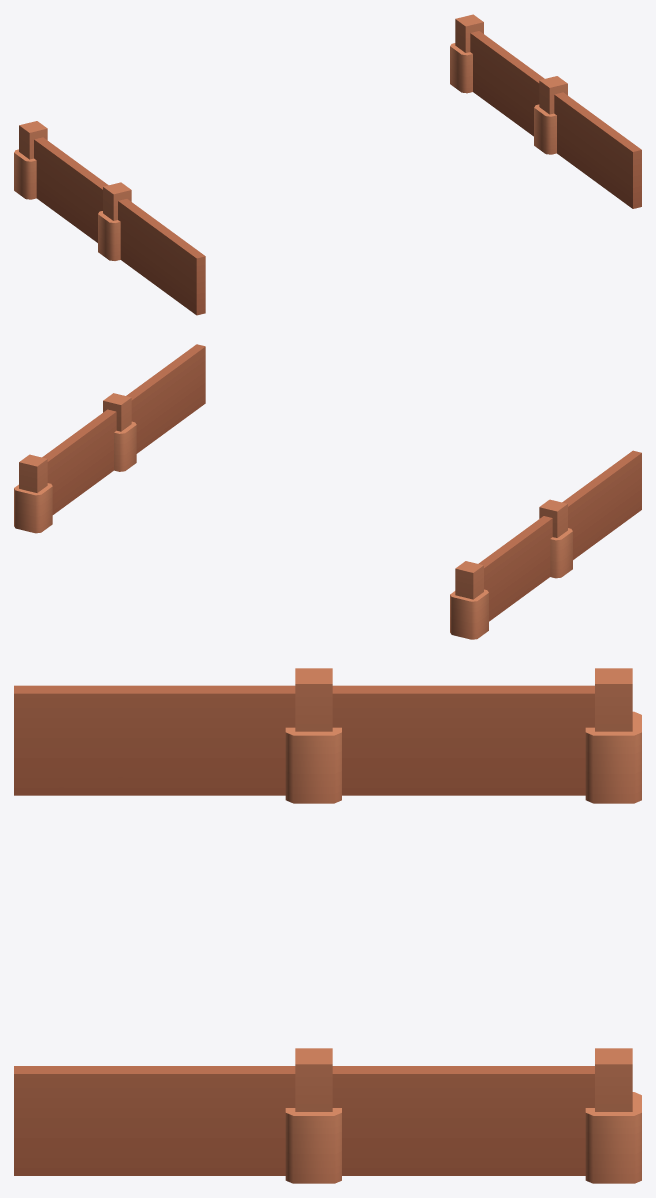
File: fence_picket_low.glb
3 renders of one model, top to bottom at view 1: azimuth 30°, elevation 25°; view 2: azimuth 150°, elevation 25°; view 3: azimuth 270°, elevation 25°, orthographic. The views are drawn at different scales.
Parts seen in each view (by area): view 1: fence-low; view 2: fence-low; view 3: fence-low.
Boxes of the visible parts, box(x1,y1,x2,y2) form: fence-low: box(14, 14, 641, 315); fence-low: box(14, 344, 641, 639); fence-low: box(14, 668, 641, 1183).
Size of the model in its own units: 1.28 by 0.17 by 0.8374.
Materials: 1 (1 with a texture image).
